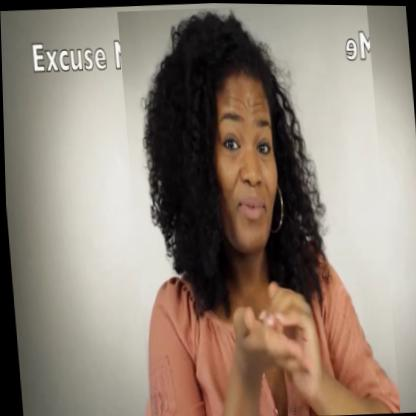ExcuseMe: (117, 1, 398, 416)
